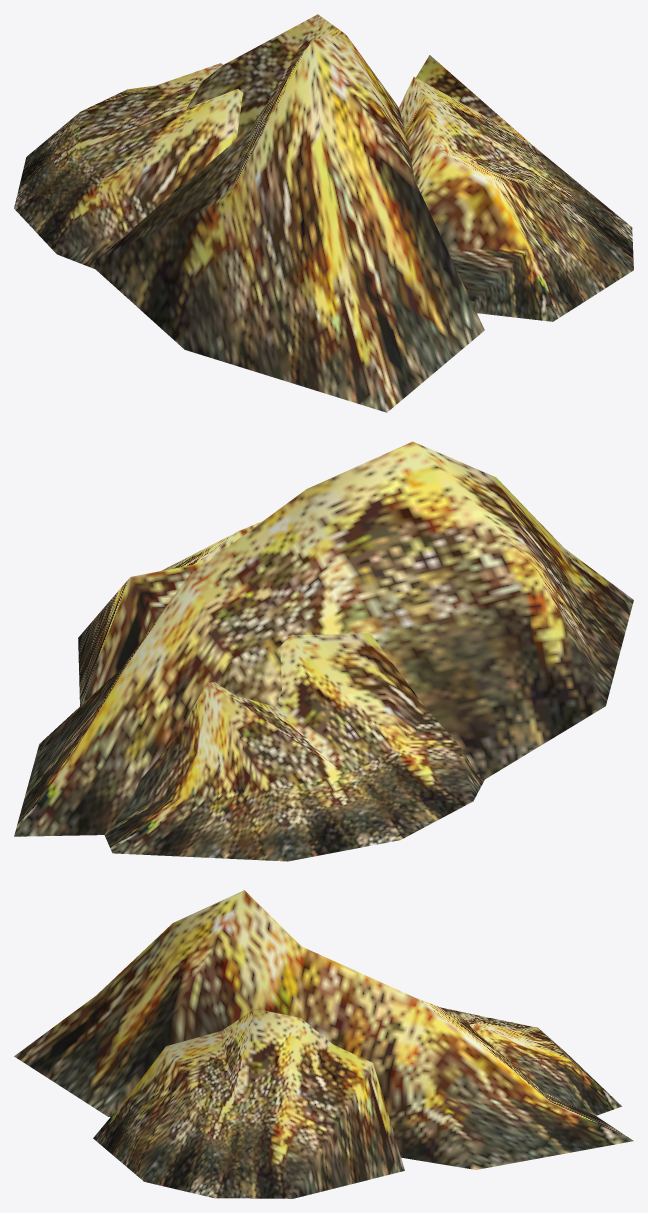
The model's file is idle.glb.
The picture shows the model from 3 angles, top to bottom: view 1: azimuth 30°, elevation 25°; view 2: azimuth 150°, elevation 25°; view 3: azimuth 270°, elevation 25°; orthographic projection. The views are drawn at different scales.
Visible parts, largest first — view 1: MeshRoot; view 2: MeshRoot; view 3: MeshRoot.
Part boxes in pixels (bbox=[...]): MeshRoot: bbox=[14, 14, 633, 412]; MeshRoot: bbox=[14, 441, 633, 861]; MeshRoot: bbox=[14, 890, 633, 1198].
Bounding box in the file's own units: 3.89 × 1.99 × 5.77.
1 material, 1 textured.
